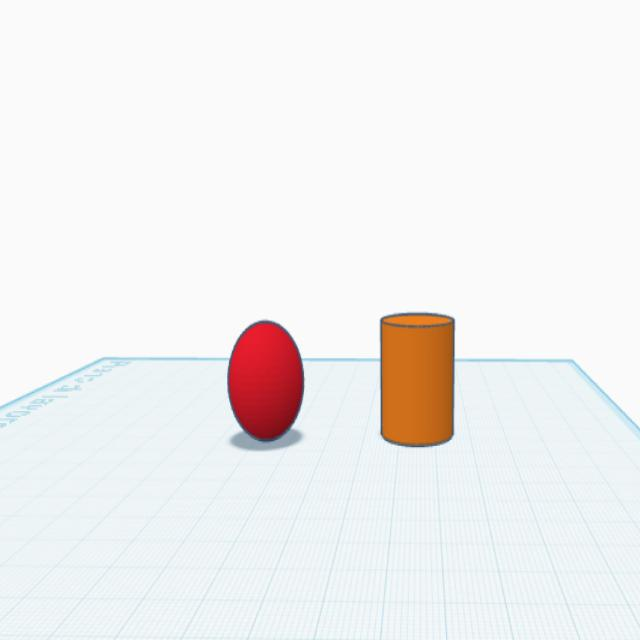sphere: (224, 316, 308, 446)
